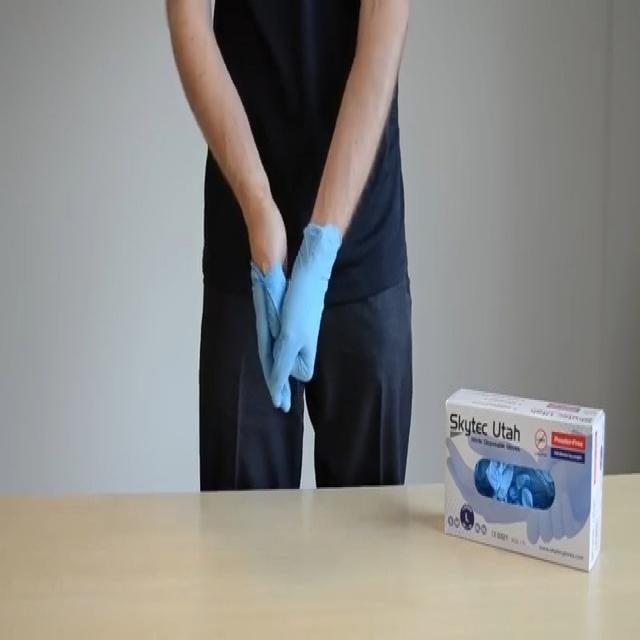Gloves: (267, 209, 344, 408)
